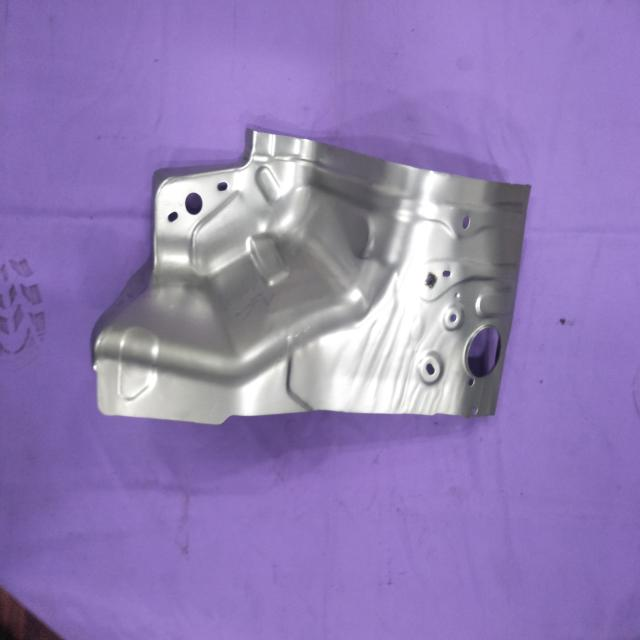Healthy: (90, 123, 532, 427)
